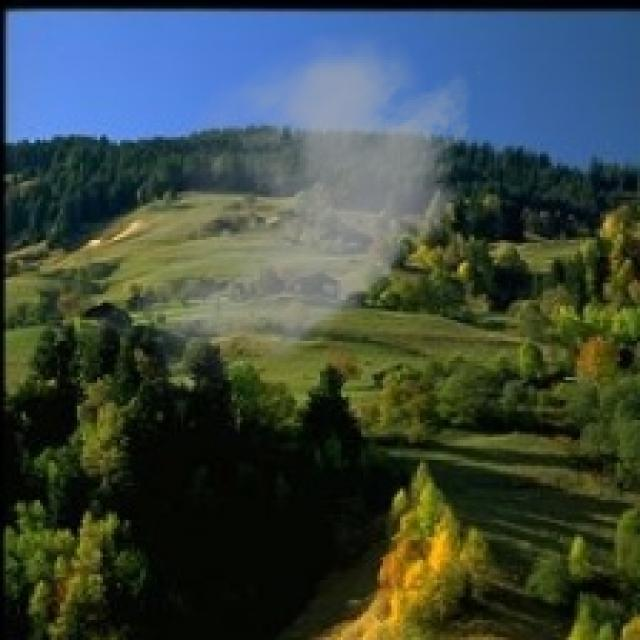smoke: (74, 14, 486, 400)
